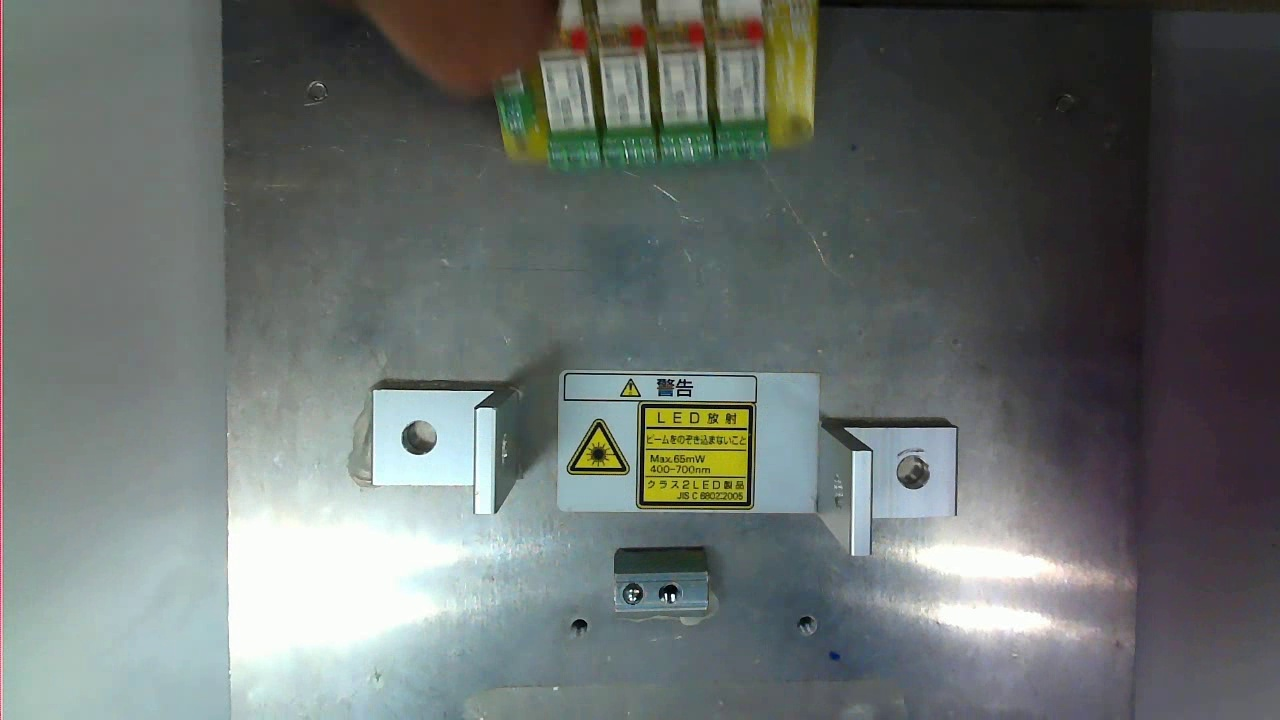can: (517, 0, 819, 168), (629, 401, 761, 517)
